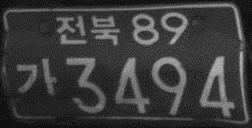3: (63, 55, 107, 114)
4: (199, 55, 235, 122), (113, 54, 151, 115)
8: (132, 11, 158, 47)
9: (149, 54, 187, 118), (159, 9, 188, 44)
가: (14, 55, 58, 99)
전북_O: (53, 13, 120, 47)
